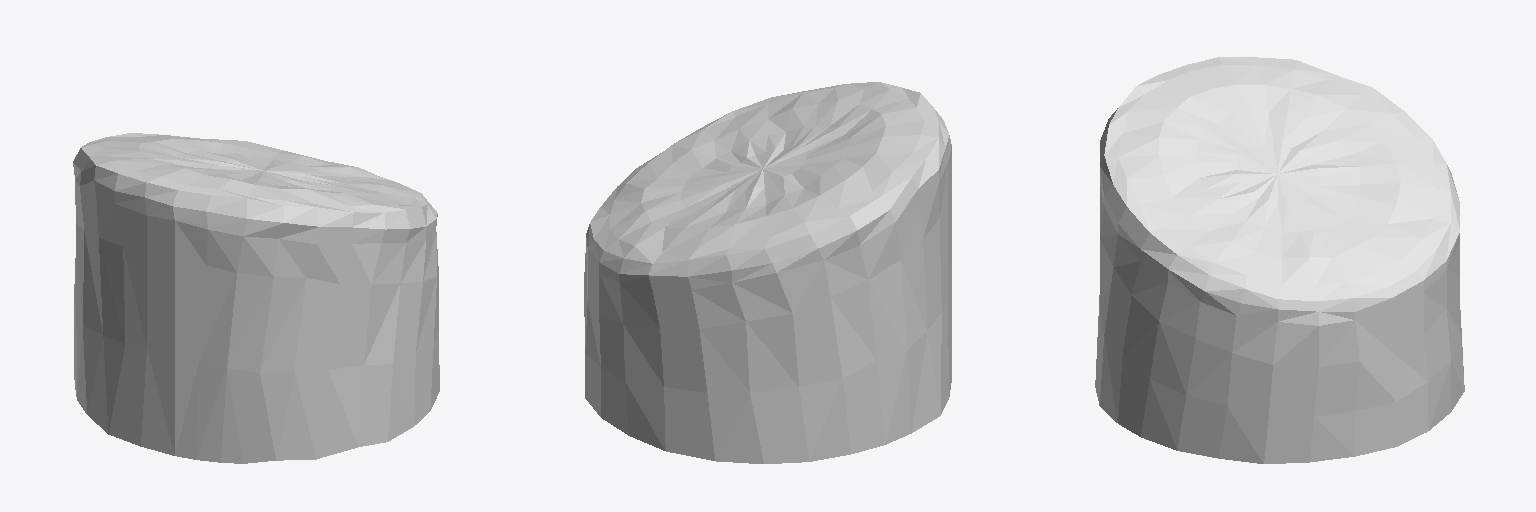
File: left_y_button.obj
The picture shows the model from 3 angles: view 1: azimuth 30°, elevation 25°; view 2: azimuth 150°, elevation 25°; view 3: azimuth 270°, elevation 25°; orthographic projection.
Visible parts, largest first — view 1: left_y_button; view 2: left_y_button; view 3: left_y_button.
Part boxes in pixels (left/top/right/bottom): left_y_button: left=73, top=133, right=439, bottom=463; left_y_button: left=584, top=82, right=951, bottom=463; left_y_button: left=1095, top=57, right=1464, bottom=463.
Bounding box in the file's own units: 0.0081 × 0.0063 × 0.0081.